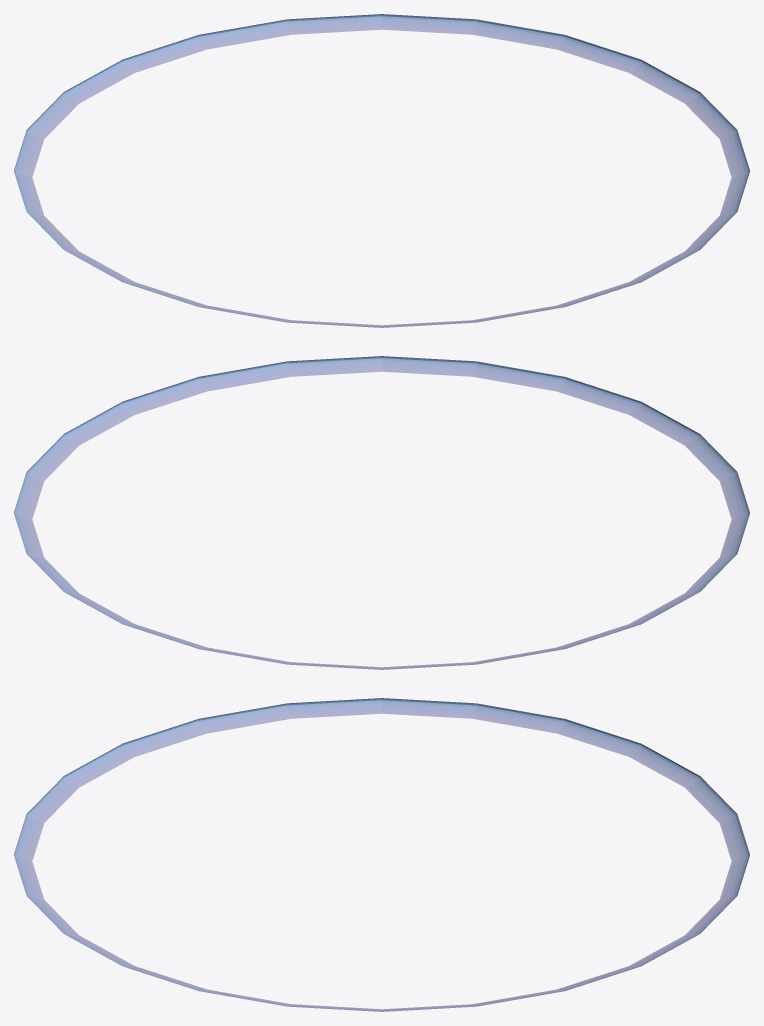
Rendered from sky.glb.
The picture shows the model from 3 angles, top to bottom: view 1: azimuth 30°, elevation 25°; view 2: azimuth 150°, elevation 25°; view 3: azimuth 270°, elevation 25°; orthographic projection.
Visible parts, largest first — view 1: sky_out; view 2: sky_out; view 3: sky_out.
Boxes of the visible parts, bbox=[...] form: sky_out: bbox=[14, 14, 749, 327]; sky_out: bbox=[14, 356, 749, 669]; sky_out: bbox=[14, 698, 749, 1011].
Bounding box in the file's own units: 11994 × 492 × 11994.
